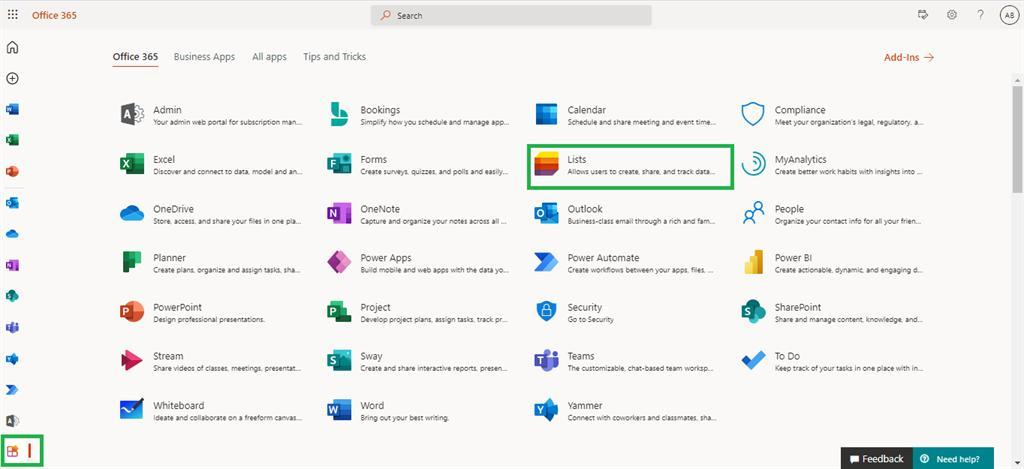button: (914, 447, 995, 469), (841, 448, 915, 469)
icon: (740, 148, 770, 179), (322, 201, 355, 229), (533, 150, 562, 181), (324, 151, 354, 180), (118, 153, 149, 181), (326, 299, 353, 331), (118, 396, 147, 425), (326, 395, 354, 424), (116, 347, 146, 374), (533, 348, 561, 376), (532, 248, 560, 276), (739, 202, 766, 231), (118, 300, 146, 327), (118, 247, 144, 275), (740, 298, 765, 327), (533, 396, 558, 425), (532, 202, 561, 227), (738, 248, 765, 274), (740, 348, 767, 374), (118, 202, 145, 228), (326, 250, 351, 278), (121, 101, 145, 130), (742, 101, 767, 128), (327, 349, 354, 374), (328, 100, 351, 128), (535, 298, 558, 325), (534, 102, 559, 126), (6, 257, 25, 279), (6, 319, 24, 340), (5, 101, 23, 119), (4, 70, 22, 87), (6, 196, 23, 214), (6, 413, 23, 430), (5, 383, 21, 401), (6, 350, 20, 370), (5, 289, 22, 305), (5, 41, 21, 57), (6, 227, 22, 242), (7, 444, 21, 461), (916, 6, 931, 21), (5, 8, 20, 23), (6, 165, 21, 180), (6, 134, 22, 148), (945, 8, 960, 21), (974, 8, 987, 19)
input: (370, 4, 654, 30)
label: (154, 103, 302, 131), (566, 101, 717, 128), (360, 252, 509, 279), (360, 102, 507, 129), (775, 103, 922, 130), (153, 253, 303, 279), (566, 153, 715, 179), (566, 204, 715, 230), (152, 154, 306, 179), (569, 348, 711, 375), (361, 350, 508, 376), (154, 350, 299, 376), (774, 153, 919, 179), (775, 254, 924, 279), (361, 302, 508, 327), (361, 156, 507, 181), (360, 202, 504, 227), (153, 400, 301, 424), (566, 253, 713, 277), (153, 205, 302, 228), (774, 301, 920, 324), (568, 400, 716, 422), (775, 205, 917, 227), (778, 353, 926, 374), (360, 398, 452, 427), (153, 302, 266, 325), (566, 302, 617, 327)
